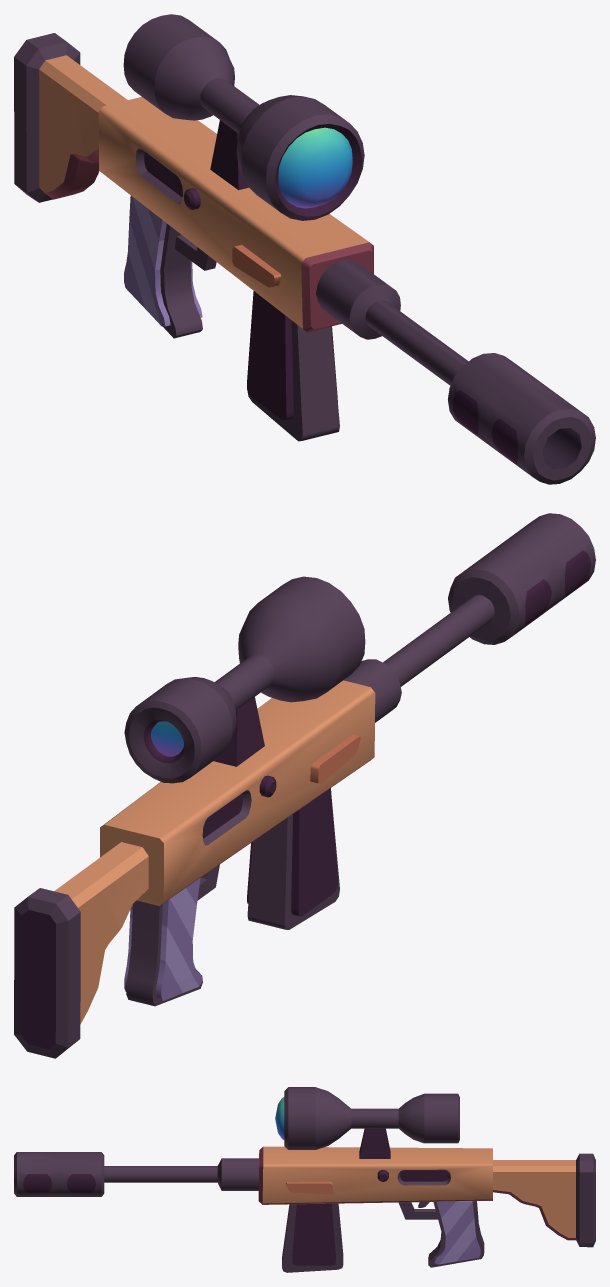
File: SNIPER.fbx
3 views of the same model, one above another, from view 1: azimuth 30°, elevation 25°; view 2: azimuth 150°, elevation 25°; view 3: azimuth 270°, elevation 25° (orthographic). The views are drawn at different scales.
Parts seen in each view (by area): view 1: Sniper; view 2: Sniper; view 3: Sniper.
Part boxes in pixels (x1,y1,x2,y2): Sniper: (14, 14, 595, 484); Sniper: (14, 513, 595, 1058); Sniper: (14, 1087, 595, 1272).
Size of the model in its own units: 0.3971 by 1.23 by 3.66.
1 material, 1 textured.
